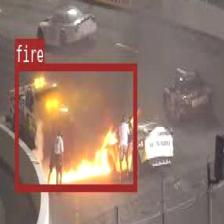fire: (15, 63, 136, 190)
